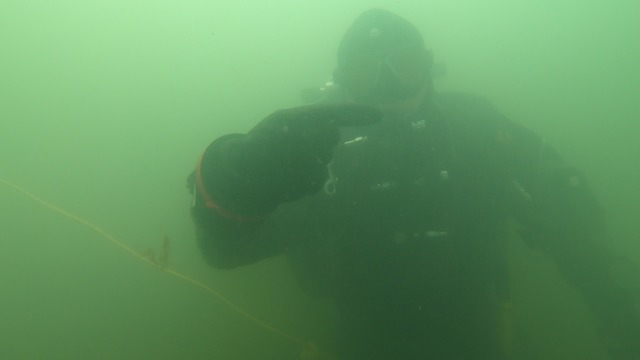Diver: (161, 3, 627, 356)
Hand: (185, 80, 399, 248)
Head: (328, 7, 440, 158)
